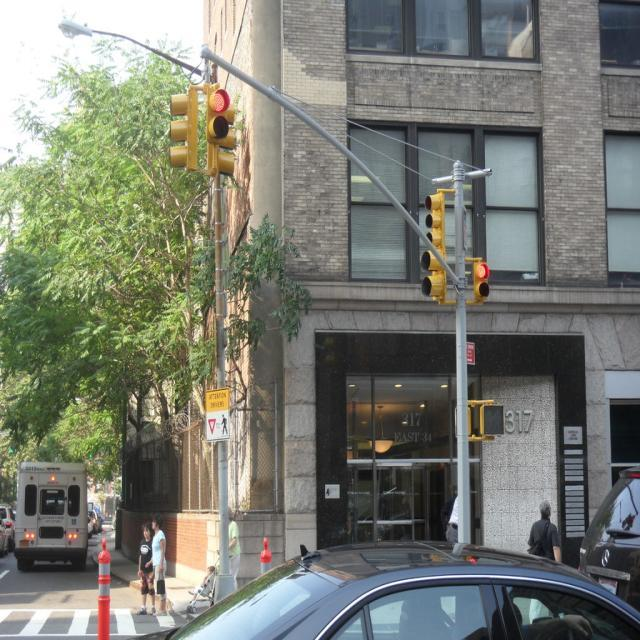traffic light: (169, 58, 235, 179), (422, 188, 445, 306), (473, 257, 491, 302)
